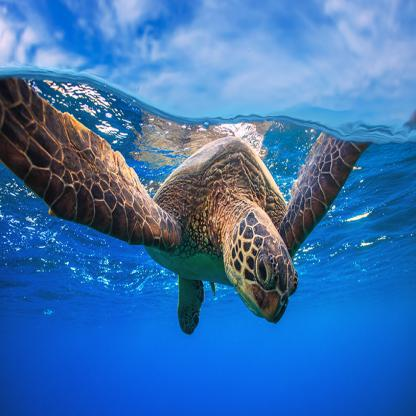turtle: (224, 208, 302, 330)
